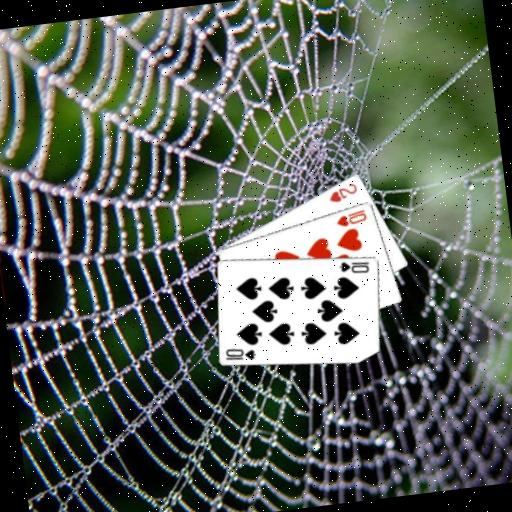10H: (332, 206, 369, 229)
10S: (336, 255, 372, 278), (222, 342, 258, 365)
2H: (325, 179, 361, 204)
